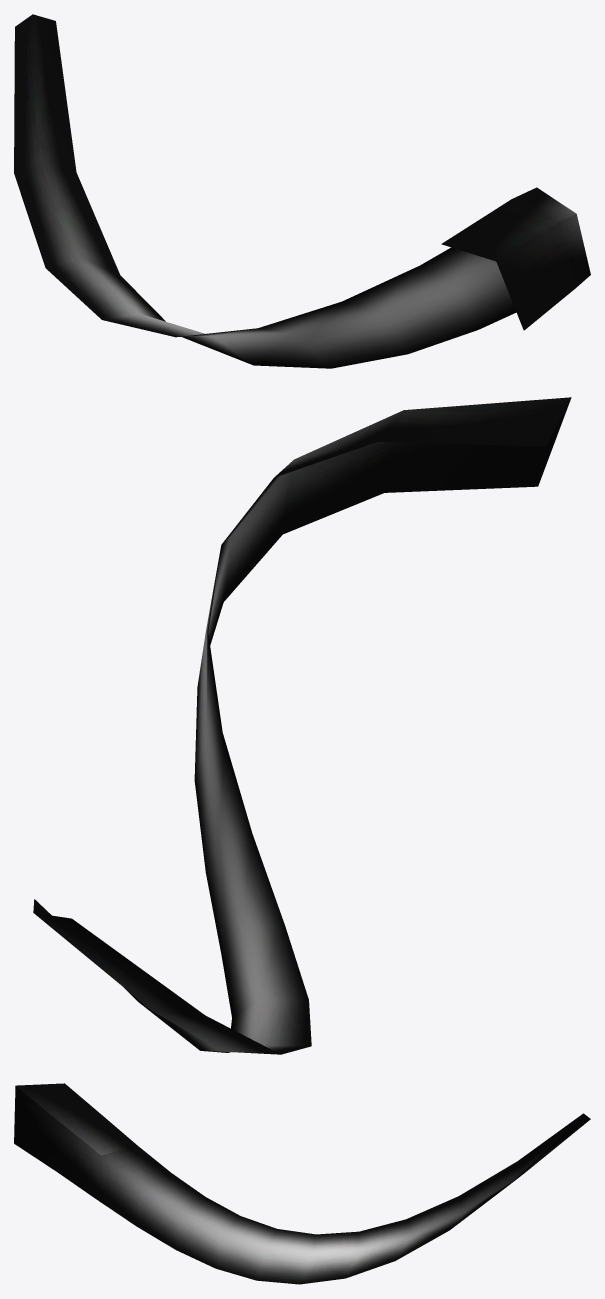
The model's file is vfx_kurp_0189.dae.
3 views of the same model, one above another, from view 1: azimuth 30°, elevation 25°; view 2: azimuth 150°, elevation 25°; view 3: azimuth 270°, elevation 25° (orthographic). The views are drawn at different scales.
Parts seen in each view (by area): view 1: vfx_kurp_0189; view 2: vfx_kurp_0189; view 3: vfx_kurp_0189.
Part boxes in pixels (left/top/right/bottom): vfx_kurp_0189: left=14, top=14, right=590, bottom=368; vfx_kurp_0189: left=33, top=397, right=571, bottom=1054; vfx_kurp_0189: left=14, top=1083, right=590, bottom=1284.
Size of the model in its own units: 2.58 by 6.8 by 2.48.
1 material, 1 textured.
